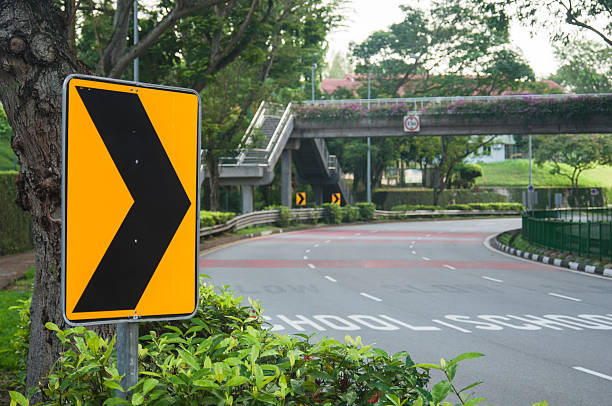right turn: (68, 77, 195, 315), (297, 192, 306, 205), (332, 193, 341, 206)
